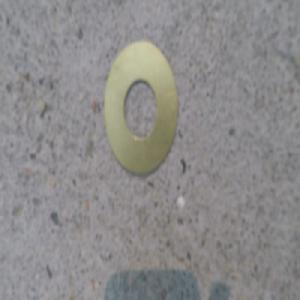Washer: (100, 43, 177, 180)
